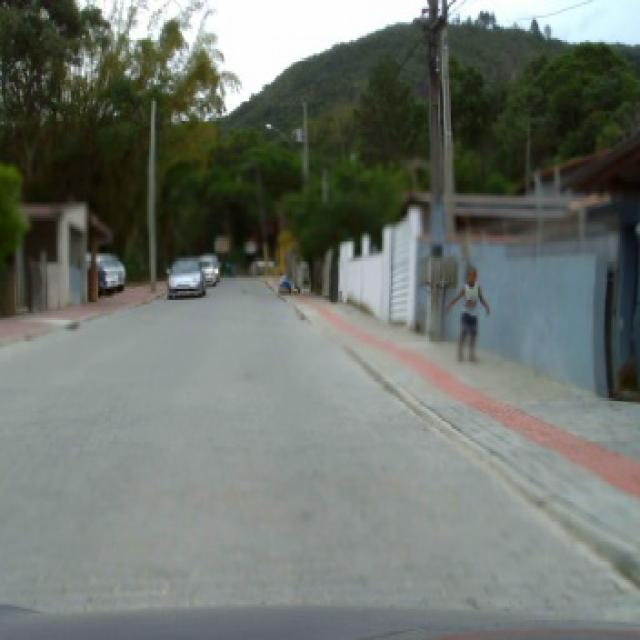Poth-hole: (60, 318, 78, 329)
